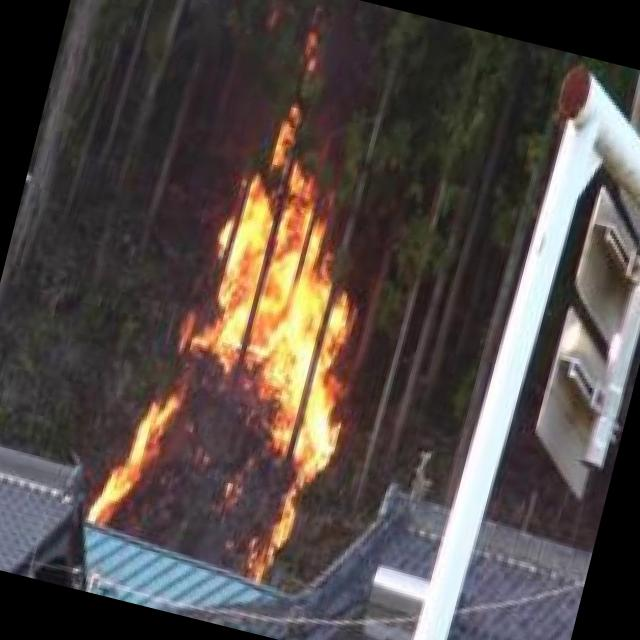Fire: (89, 97, 409, 589)
